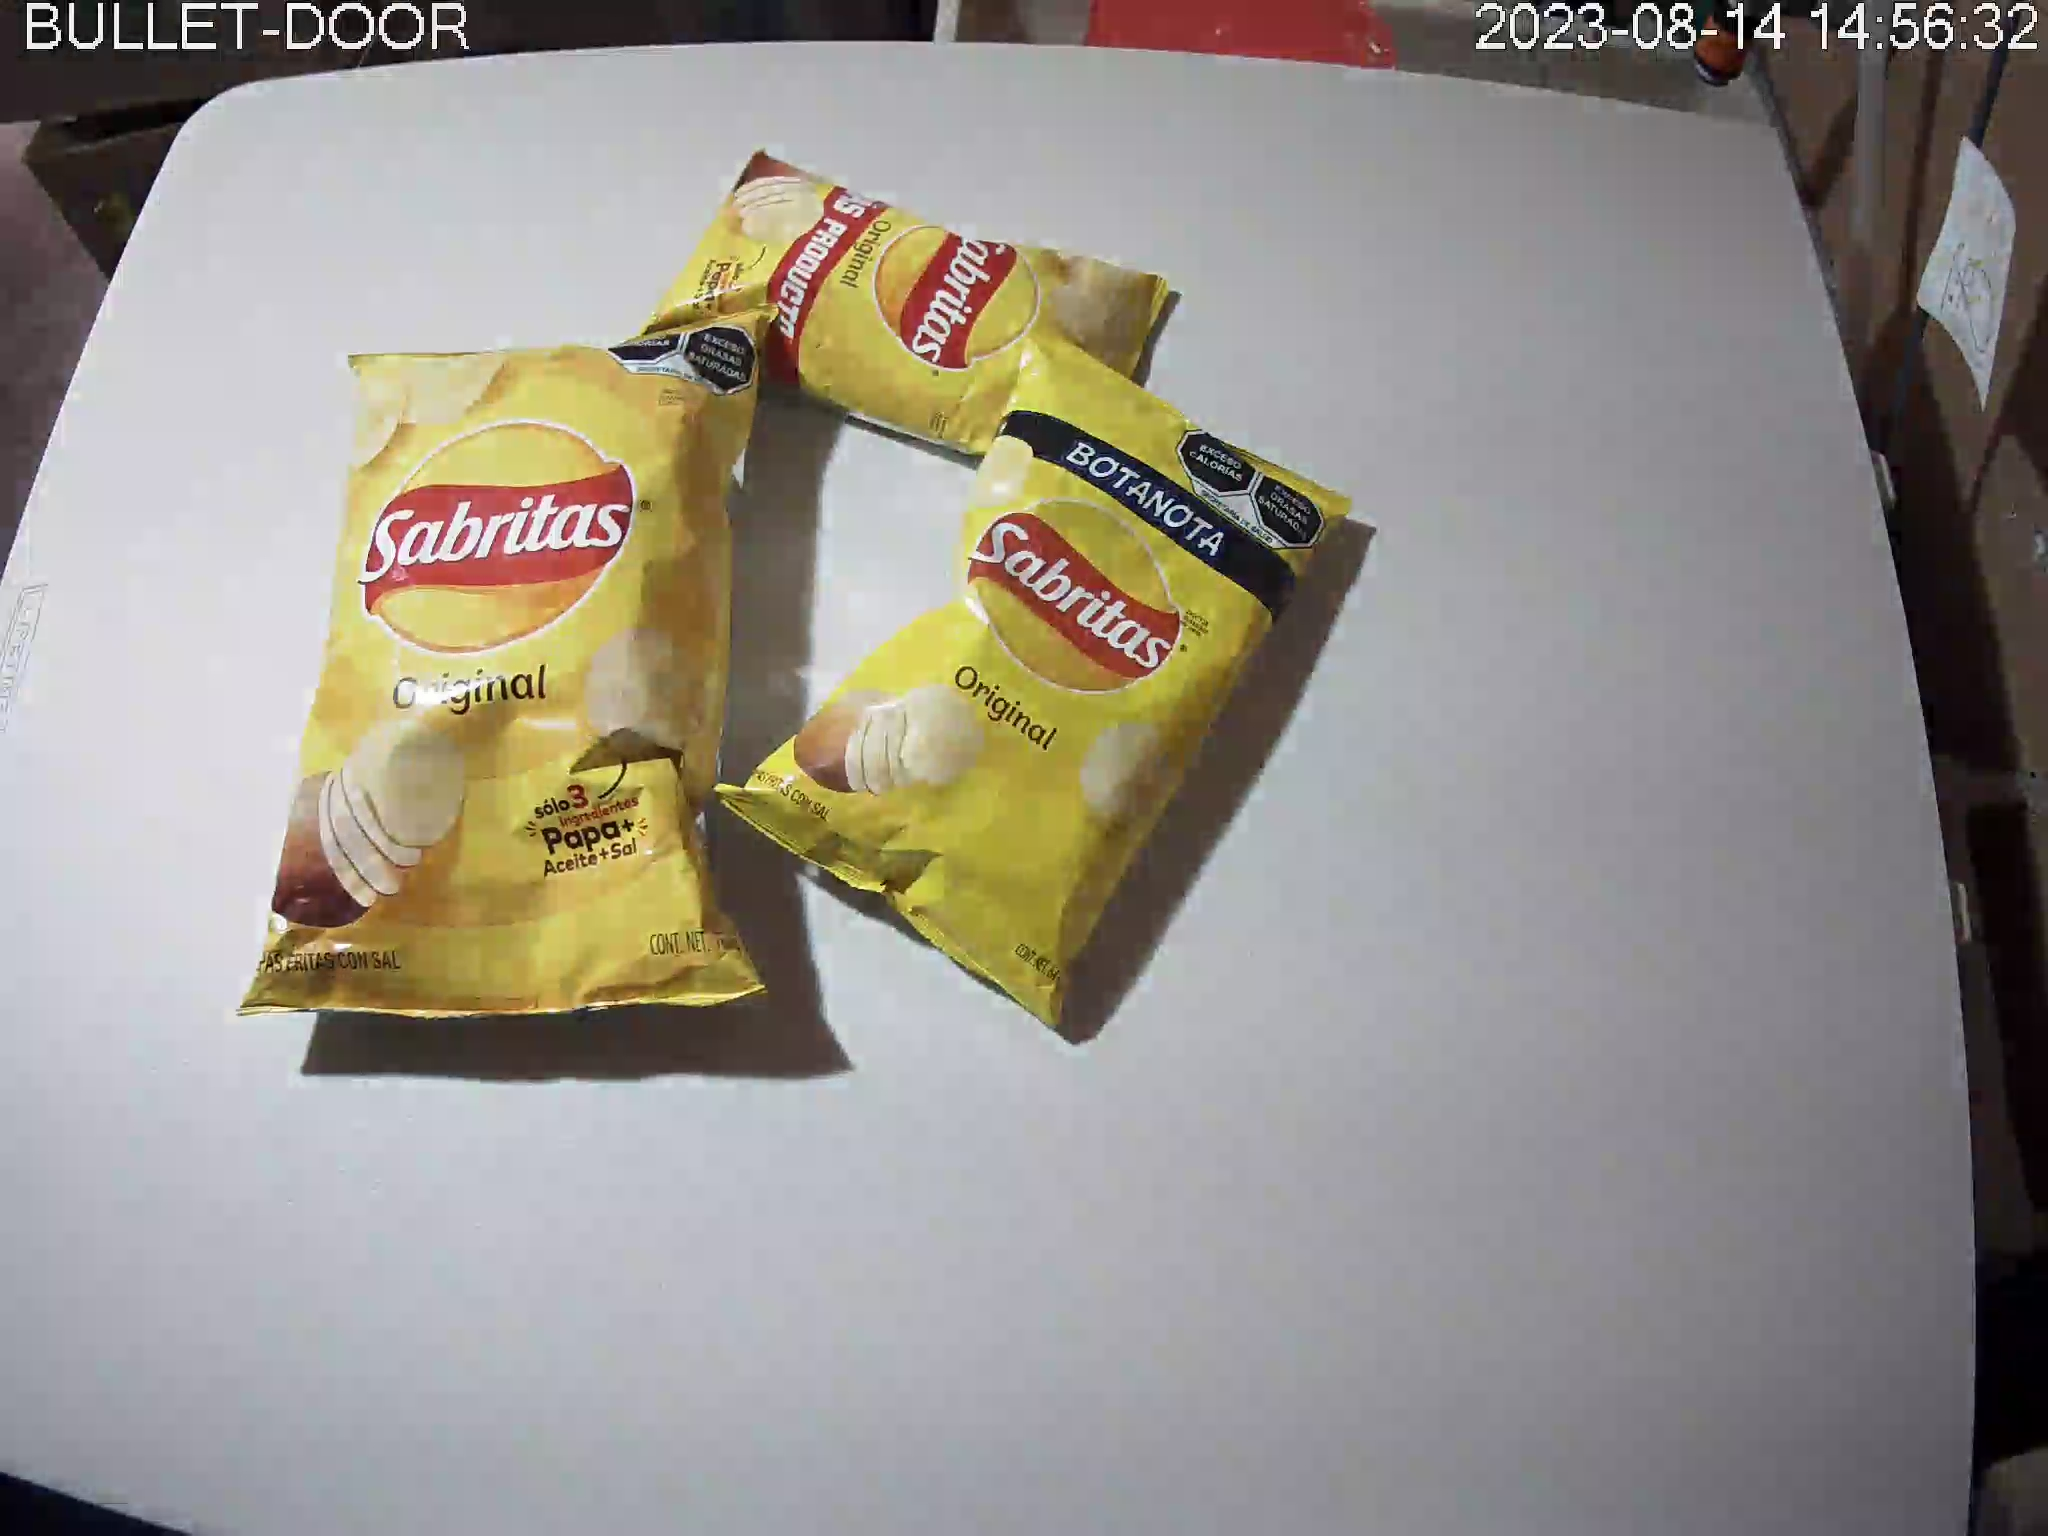Sabritas_160_F: (237, 303, 784, 1018)
Sabritas_45_F: (627, 147, 1171, 474)
Sabritas_64_F: (713, 310, 1355, 1031)
